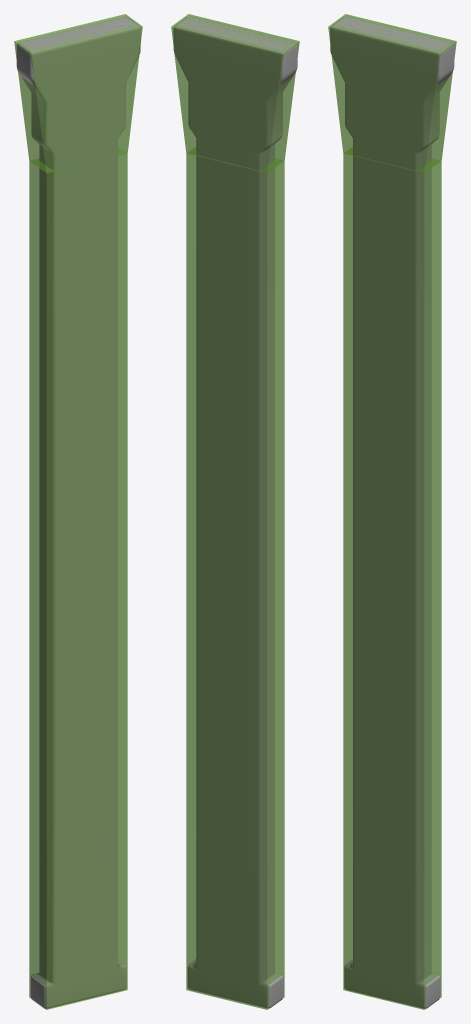
File: M_md_StallWall_end_02.fbx
3 renders of one model, left to right at view 1: azimuth 30°, elevation 25°; view 2: azimuth 150°, elevation 25°; view 3: azimuth 330°, elevation 25°, orthographic.
Visible parts, largest first — view 1: M_md_StallWall_end_02_col_02, M_md_StallWall_end_02, M_md_StallWall_end_02_col_01; view 2: M_md_StallWall_end_02_col_02, M_md_StallWall_end_02, M_md_StallWall_end_02_col_01; view 3: M_md_StallWall_end_02_col_02, M_md_StallWall_end_02, M_md_StallWall_end_02_col_01.
Boxes of the visible parts, x1,y1,x2,y2 form: M_md_StallWall_end_02_col_02: [29, 147, 127, 1009]; M_md_StallWall_end_02: [16, 16, 140, 1008]; M_md_StallWall_end_02_col_01: [14, 14, 142, 173]; M_md_StallWall_end_02_col_02: [186, 147, 284, 1009]; M_md_StallWall_end_02: [173, 16, 297, 1008]; M_md_StallWall_end_02_col_01: [171, 14, 299, 173]; M_md_StallWall_end_02_col_02: [343, 147, 441, 1009]; M_md_StallWall_end_02: [330, 16, 454, 1008]; M_md_StallWall_end_02_col_01: [328, 14, 456, 173].
Bounding box in the file's own units: 36.43 × 300 × 9.78.
